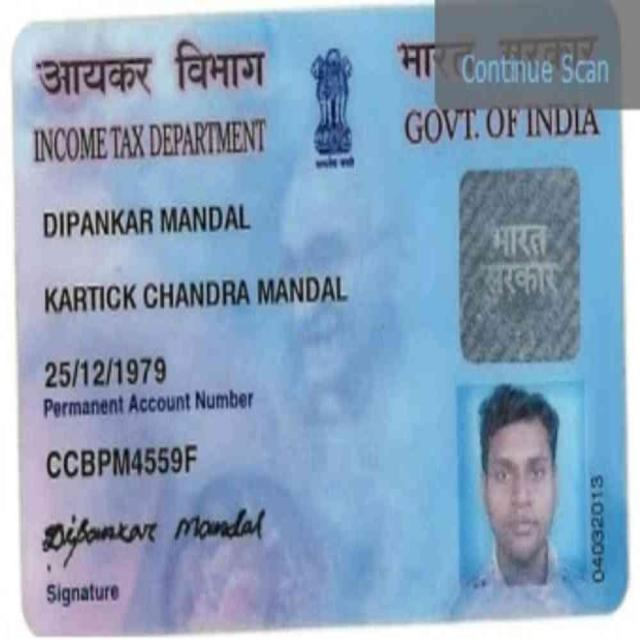pan_card: (16, 8, 623, 624)
